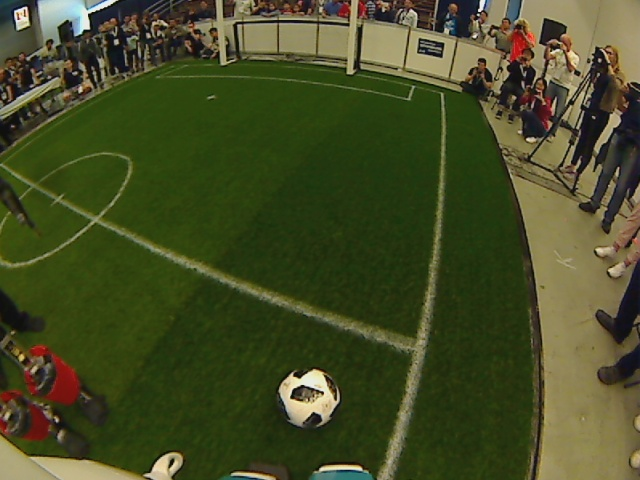ball: (276, 366, 343, 435)
